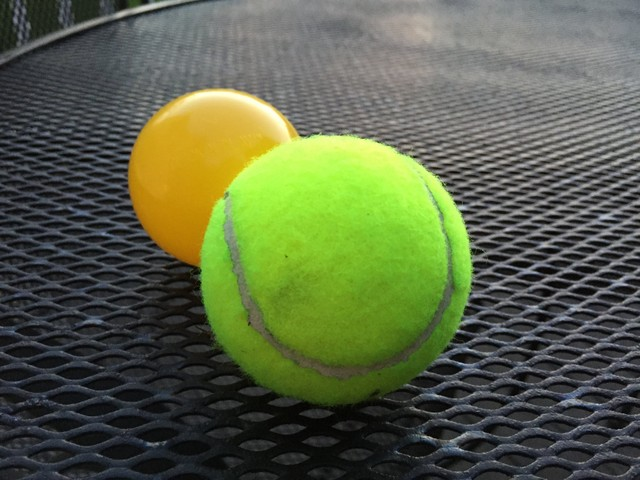Ball: (126, 89, 301, 272)
